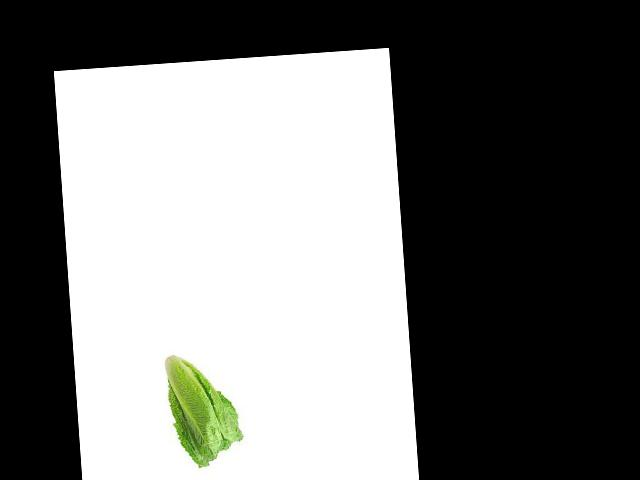lettuce: (157, 346, 243, 466)
